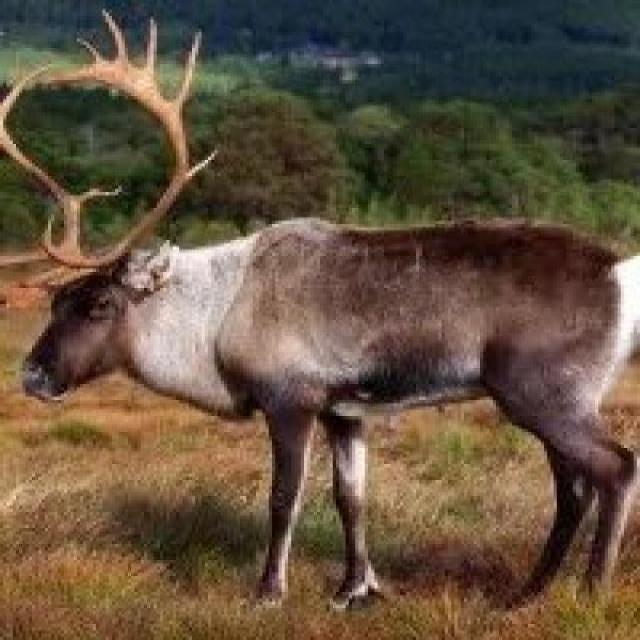deer: (33, 133, 640, 603)
